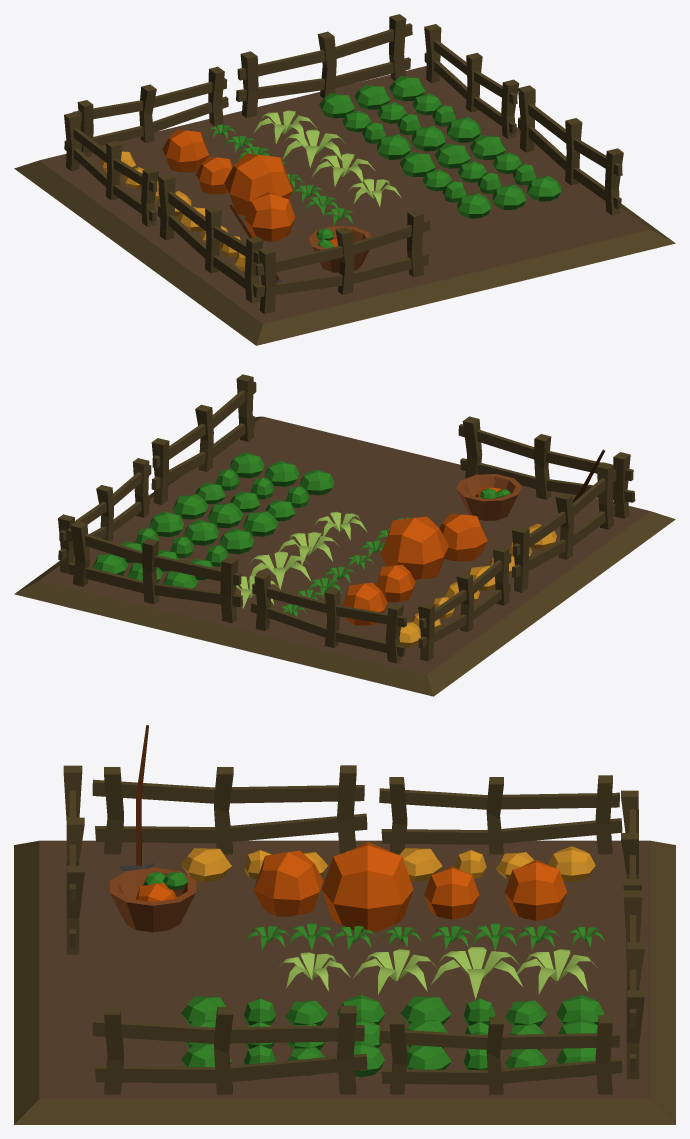
The model's file is SM_Farm_T1.fbx.
3 views of the same model, one above another, from view 1: azimuth 30°, elevation 25°; view 2: azimuth 150°, elevation 25°; view 3: azimuth 270°, elevation 25° (orthographic). The views are drawn at different scales.
Visible parts, largest first — view 1: SM_Farm_T1; view 2: SM_Farm_T1; view 3: SM_Farm_T1.
Part boxes in pixels (x1,y1,x2,y2): SM_Farm_T1: (14,14,675,345); SM_Farm_T1: (14,374,675,696); SM_Farm_T1: (14,725,675,1124).
Size of the model in its own units: 107 by 24.17 by 107.
